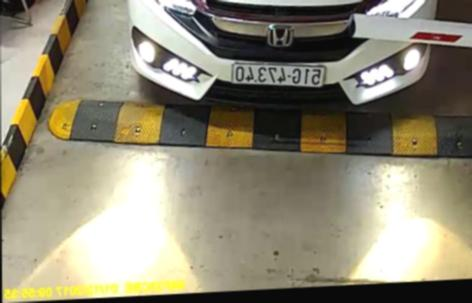License_Plate: (230, 61, 327, 90)
